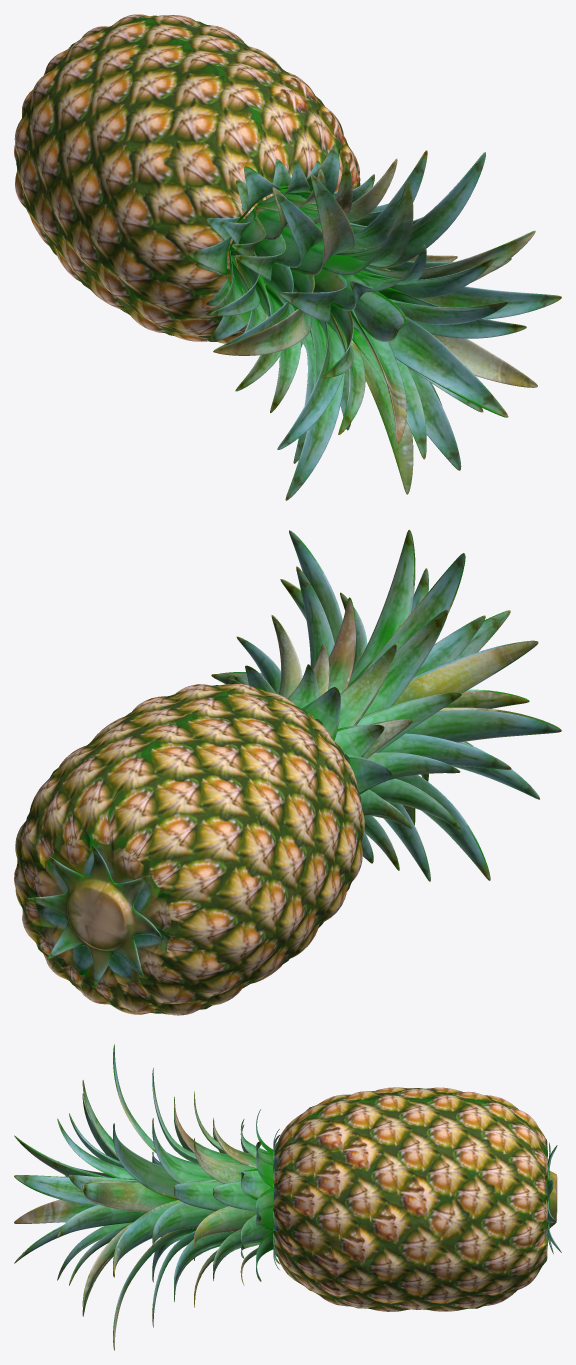
File: 10200_Pineapple_v1-L2.obj
3 renders of one model, top to bottom at view 1: azimuth 30°, elevation 25°; view 2: azimuth 150°, elevation 25°; view 3: azimuth 270°, elevation 25°, orthographic. The views are drawn at different scales.
Visible parts, largest first — view 1: Pineapple; view 2: Pineapple; view 3: Pineapple.
Part boxes in pixels (left/top/right/bottom): Pineapple: left=14, top=14, right=561, bottom=500; Pineapple: left=14, top=529, right=561, bottom=1015; Pineapple: left=14, top=1044, right=561, bottom=1350.
Size of the model in its own units: 16.73 by 15.27 by 30.12.
1 material, 1 textured.
